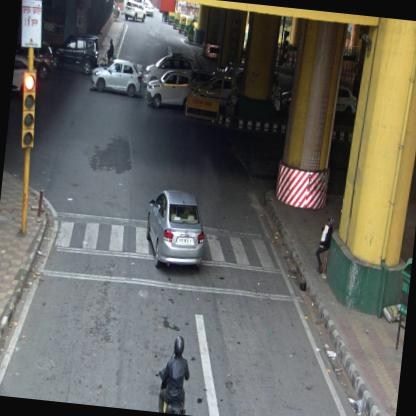car: (140, 187, 210, 273), (50, 29, 100, 78), (140, 50, 196, 92), (88, 56, 143, 98), (143, 68, 192, 112), (32, 40, 54, 80), (122, 0, 147, 22)
motorcycle: (150, 334, 196, 414)
